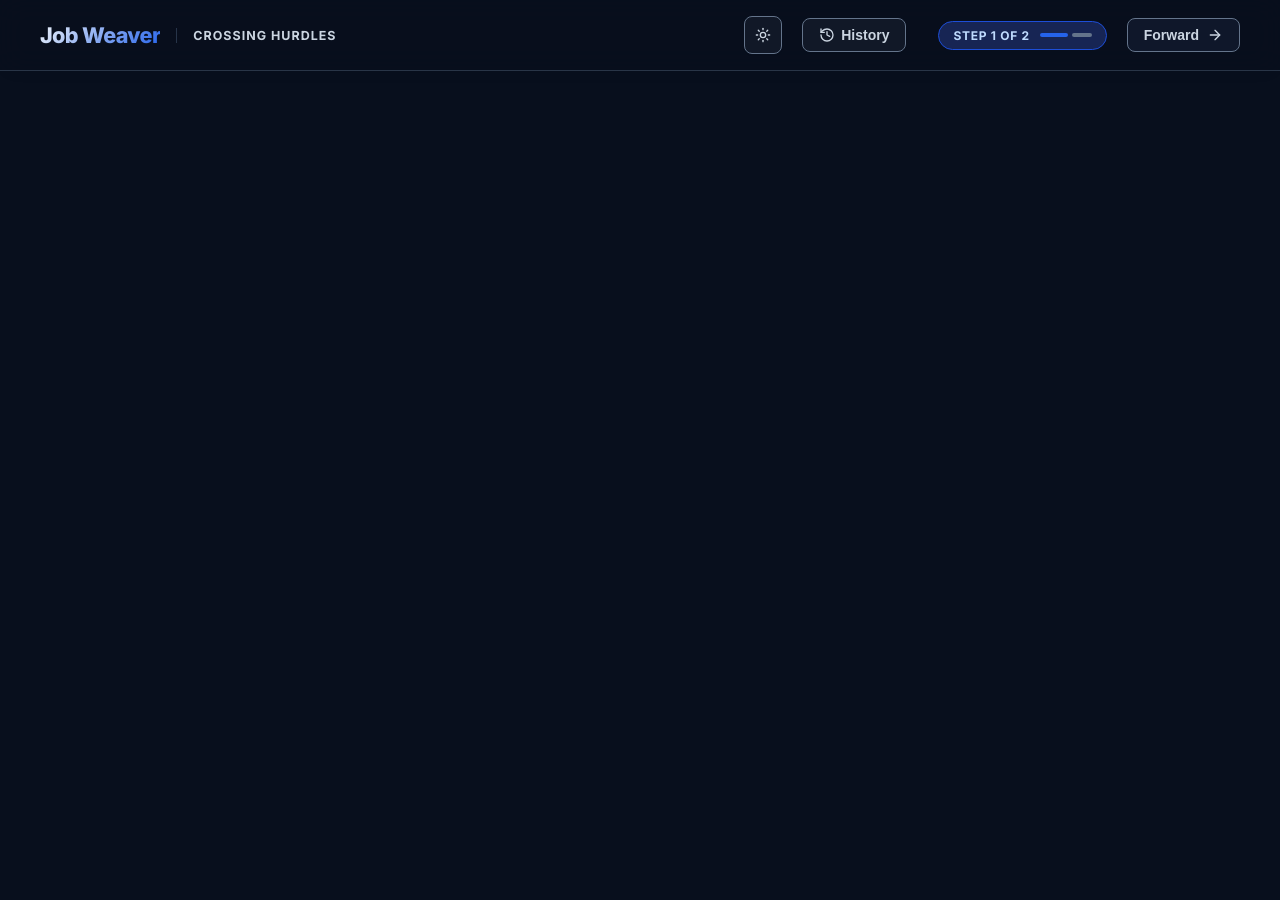
Test: Job Weaver frontend regressions › clears server history and every Job Weaver local cache key
Click the button "History": (854,35) left=802, top=18, right=906, bottom=52
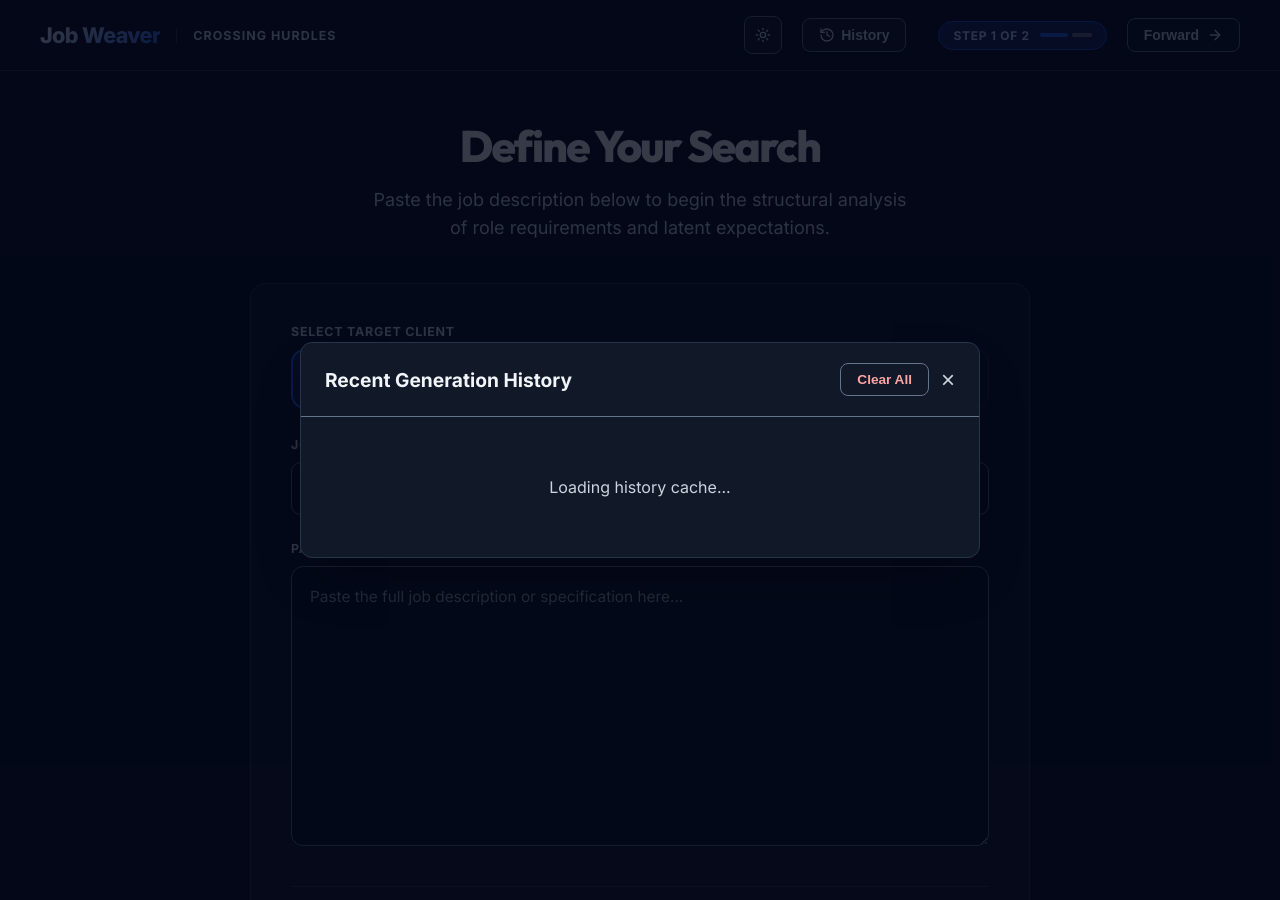
Click the button "Clear All": (885,380) left=840, top=363, right=929, bottom=396
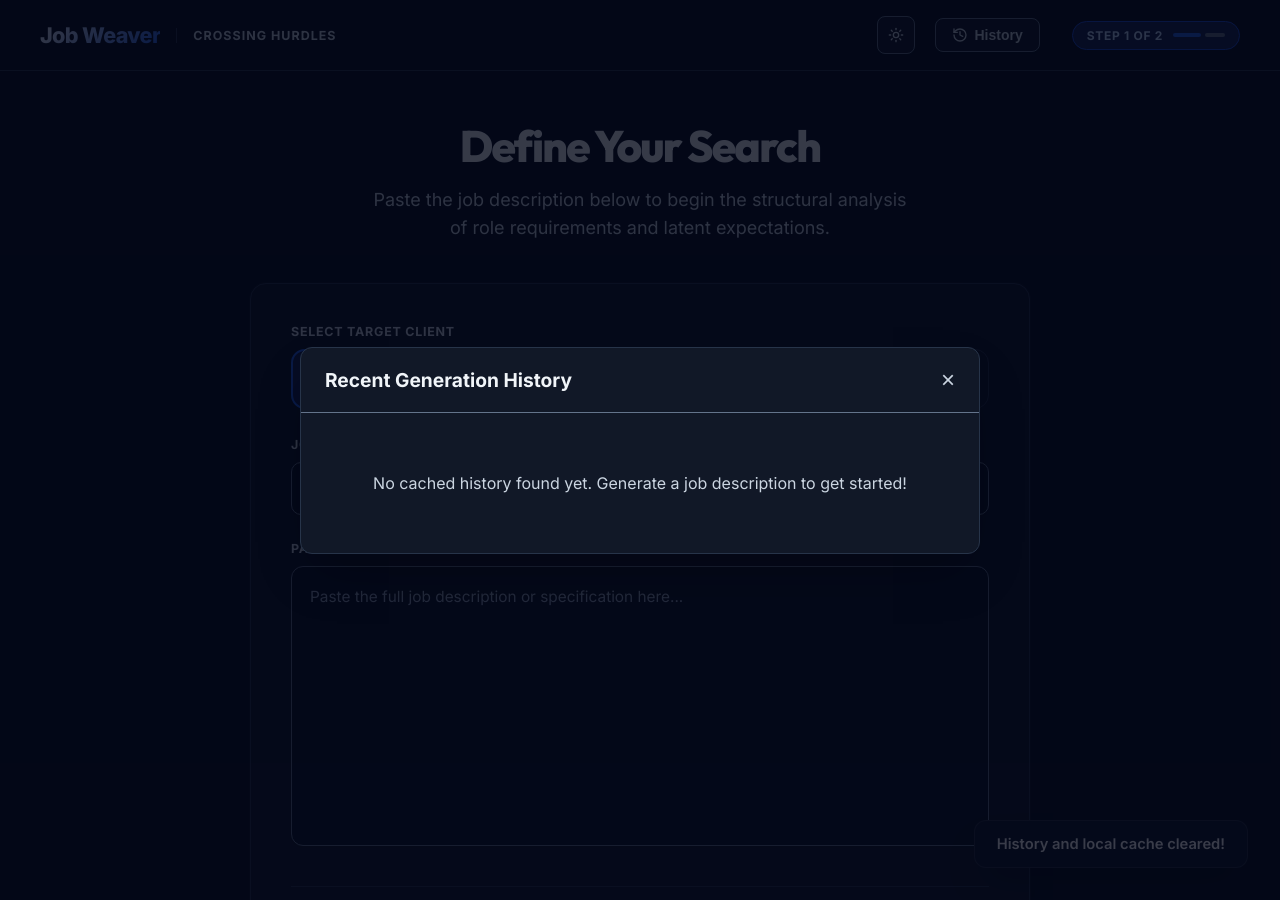
Check: the text "History and local cache cleared!" is shown, box left=974, top=820, right=1248, bottom=868
